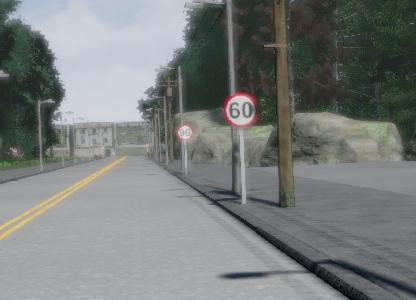Speed_60: (221, 91, 258, 130)
